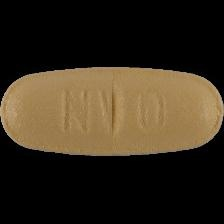0781-5607: (0, 0, 224, 224)
